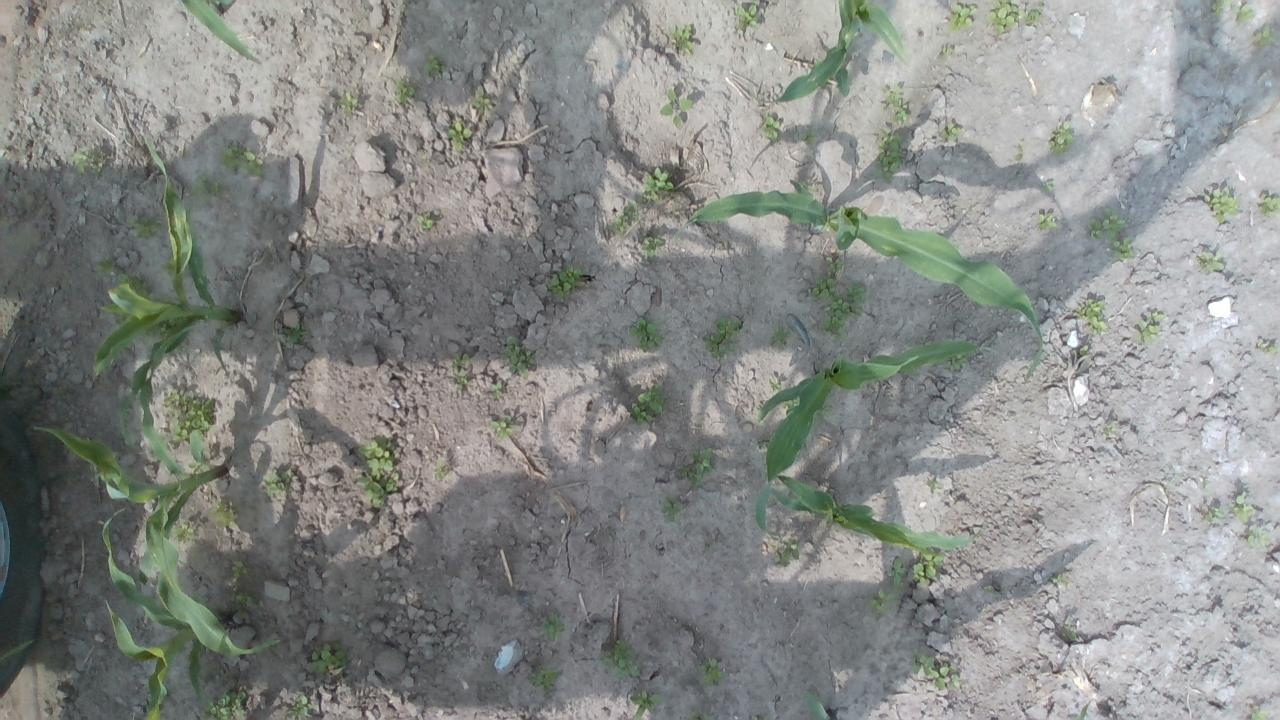Maize: (36, 324, 280, 658), (671, 180, 1044, 376), (755, 338, 1002, 543), (90, 133, 240, 449), (96, 505, 235, 720), (769, 472, 988, 558), (750, 0, 910, 100), (178, 0, 260, 66), (803, 688, 837, 720)
Weeds: (356, 437, 400, 508), (820, 282, 870, 342), (161, 389, 216, 442), (912, 648, 961, 691), (217, 138, 266, 178), (874, 127, 904, 184), (702, 315, 739, 360), (597, 636, 636, 677), (502, 336, 536, 380), (630, 384, 666, 424), (679, 448, 714, 488), (986, 0, 1026, 35), (1072, 297, 1109, 334), (200, 691, 246, 720), (638, 165, 672, 203), (310, 642, 348, 676), (629, 318, 664, 354), (70, 146, 108, 179), (1204, 187, 1238, 223), (186, 171, 224, 203), (660, 88, 691, 127), (882, 84, 912, 124), (116, 271, 156, 300), (549, 266, 583, 300), (911, 551, 943, 587), (1088, 209, 1126, 238), (1132, 310, 1164, 344), (527, 663, 562, 694), (262, 467, 292, 500), (628, 691, 662, 720), (1048, 121, 1076, 155), (611, 201, 639, 233), (127, 212, 160, 238), (946, 3, 976, 31), (1231, 490, 1255, 524), (771, 538, 800, 565), (698, 656, 724, 685), (447, 122, 473, 150), (540, 612, 566, 640), (452, 353, 471, 390), (660, 492, 684, 521), (670, 23, 694, 52), (208, 500, 234, 526), (284, 694, 312, 718), (811, 274, 836, 300), (282, 323, 312, 344), (170, 522, 196, 546), (761, 115, 784, 142), (1196, 250, 1224, 272), (870, 589, 894, 614), (734, 3, 758, 28), (470, 88, 492, 115), (394, 80, 418, 104), (642, 232, 665, 256), (769, 326, 791, 351), (888, 557, 906, 587), (422, 53, 446, 75), (337, 92, 359, 116), (154, 318, 180, 338), (1254, 25, 1276, 48), (1246, 527, 1270, 548), (492, 417, 514, 439), (1259, 193, 1280, 216), (1112, 237, 1134, 258), (416, 212, 436, 232), (95, 256, 116, 275), (1234, 3, 1255, 22), (824, 254, 845, 273), (940, 121, 961, 140), (948, 354, 968, 372), (1038, 212, 1056, 231), (229, 560, 247, 579), (1026, 6, 1042, 25), (800, 128, 819, 144), (233, 592, 254, 606), (1205, 506, 1223, 522), (1256, 340, 1278, 353), (1050, 572, 1070, 586), (1058, 626, 1077, 640), (689, 709, 712, 720), (925, 478, 943, 492), (781, 396, 800, 409), (1249, 707, 1268, 720), (938, 46, 954, 61), (1103, 422, 1116, 439), (1210, 0, 1230, 11), (434, 460, 446, 478), (187, 461, 203, 474), (768, 376, 781, 391), (491, 382, 503, 398), (820, 398, 831, 412), (1042, 180, 1054, 192), (605, 529, 616, 542), (1078, 344, 1088, 356), (704, 540, 714, 549), (984, 585, 992, 594)
